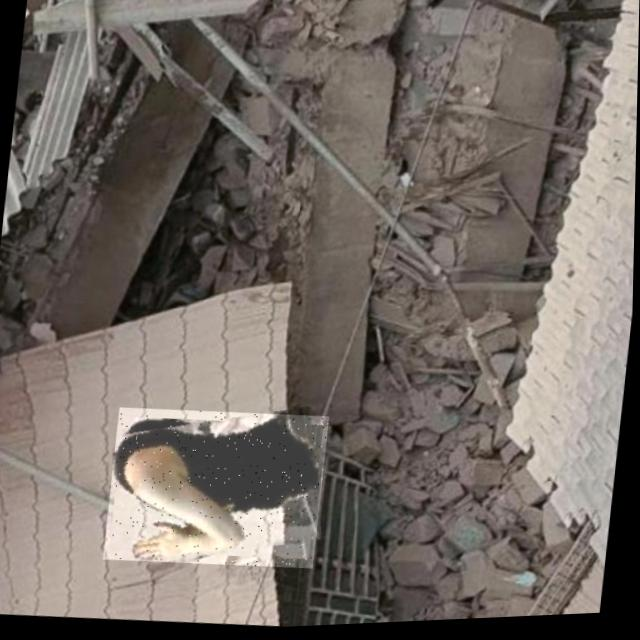Person in Rubble: (105, 400, 331, 577)
